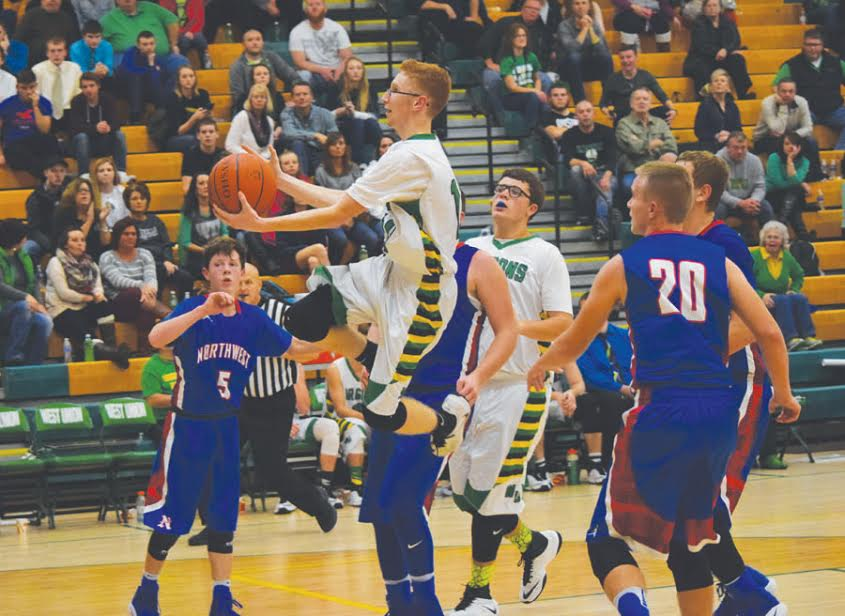ball: (210, 153, 280, 223)
player: (546, 158, 798, 612), (284, 58, 464, 451), (358, 186, 514, 615), (443, 169, 578, 615), (133, 236, 278, 614)
